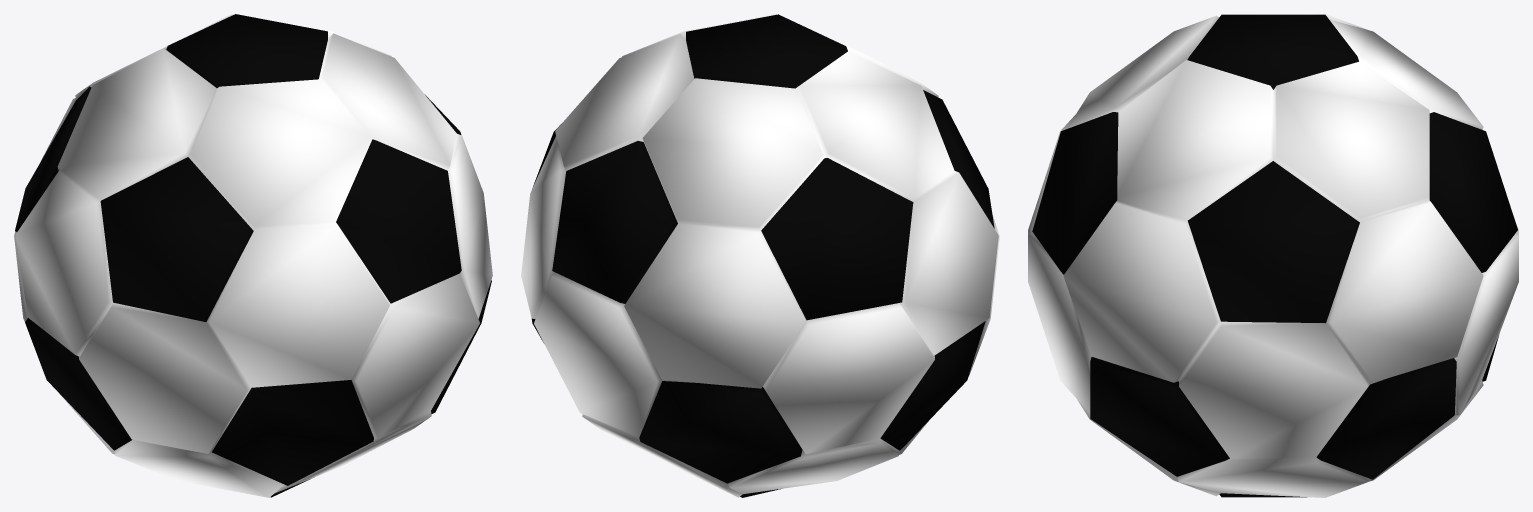
Rendered from ball_export.obj.
3 views of the same model, side by side, from view 1: azimuth 30°, elevation 25°; view 2: azimuth 150°, elevation 25°; view 3: azimuth 270°, elevation 25° (orthographic). The views are drawn at different scales.
Parts seen in each view (by area): view 1: Icosphere; view 2: Icosphere; view 3: Icosphere.
Boxes of the visible parts, x1,y1,x2,y2 form: Icosphere: [14, 14, 492, 497]; Icosphere: [521, 14, 999, 497]; Icosphere: [1028, 14, 1518, 497].
Size of the model in its own units: 3.62 by 3.5 by 3.69.
